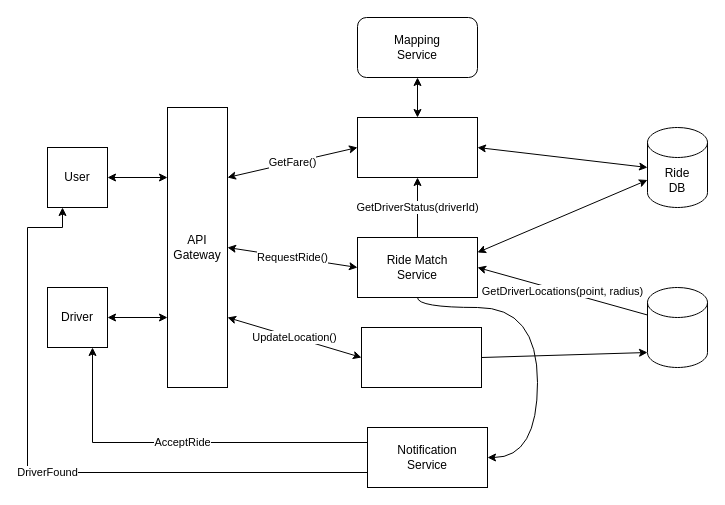
This 725x505 diagram has some shape labels left out. Each missing label, with the centre of its shape:
"Location DB" goes at point 677,327.
"Location Service" goes at point 421,357.
"Ride Service" goes at point 417,147.
